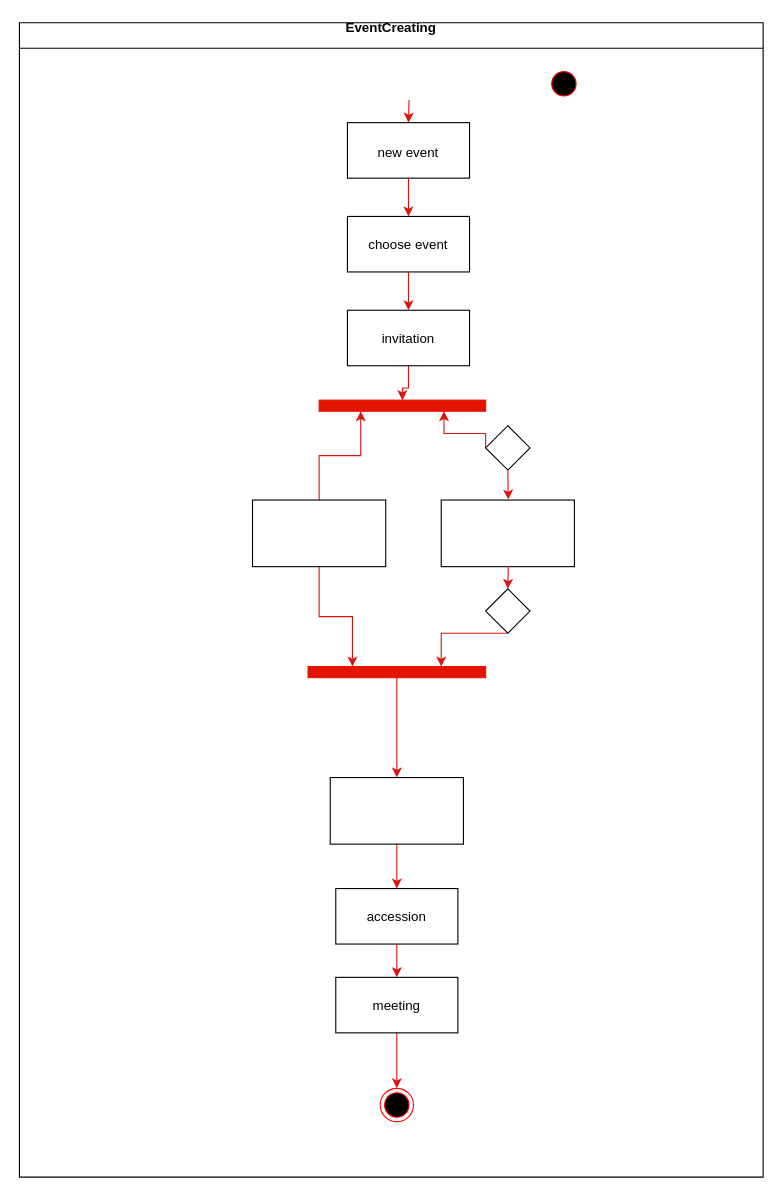
Image size: 783x1197. Some labels were removed from this diagram. Each missing label, with the centre of its shape:
"choose contact person" belongs at (318,533).
"find possible dates" belongs at (507,533).
"inform participans" belongs at (396,810).
